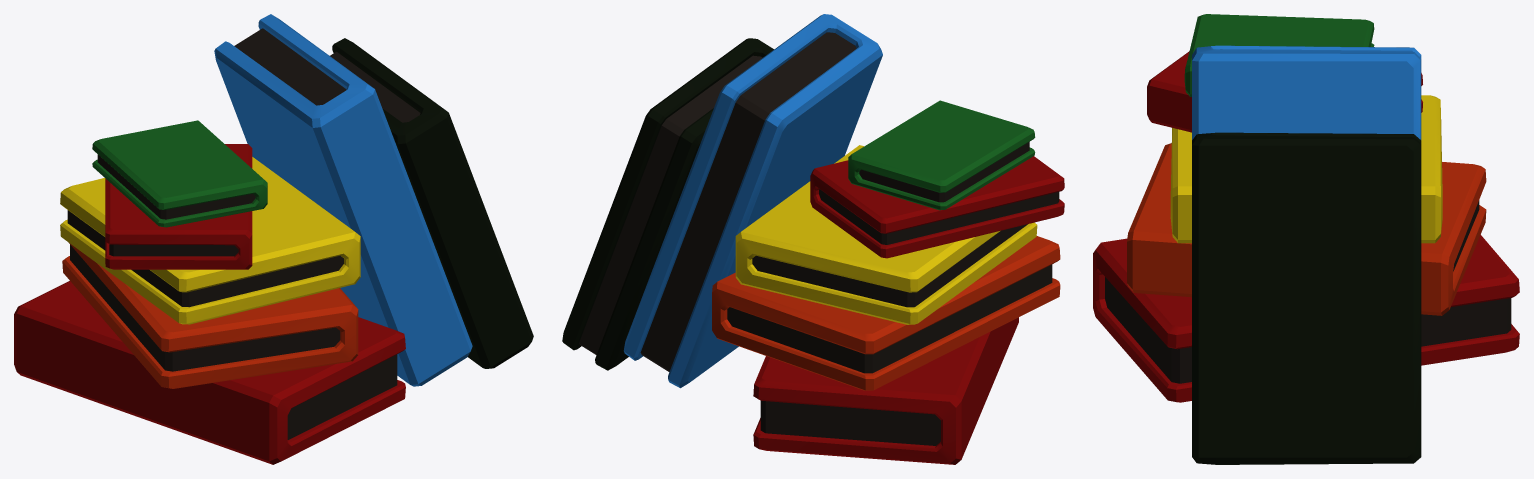
Rendered from Books.FBX.
3 renders of one model, left to right at view 1: azimuth 30°, elevation 25°; view 2: azimuth 150°, elevation 25°; view 3: azimuth 270°, elevation 25°, orthographic. The views are drawn at different scales.
Visible parts, largest first — view 1: Books; view 2: Books; view 3: Books.
Boxes of the visible parts, <box> form: Books: <box>14,14,533,464</box>; Books: <box>562,14,1064,464</box>; Books: <box>1093,14,1519,464</box>.
Size of the model in its own units: 1199 by 980 by 866.
